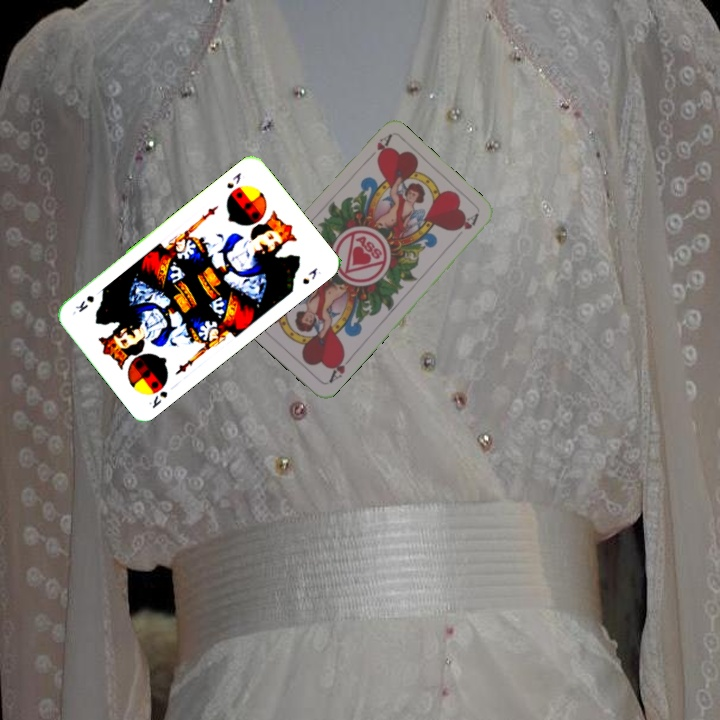HA: (324, 350, 355, 386), (362, 131, 394, 164)
SK: (145, 387, 170, 411), (223, 168, 244, 191)
